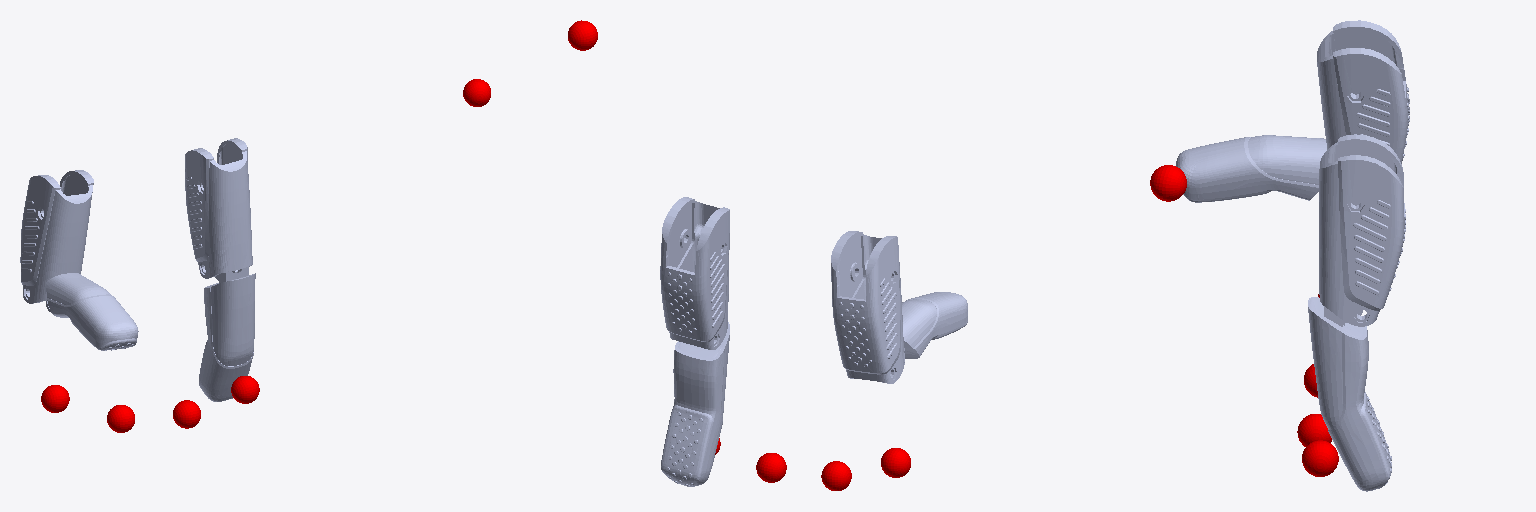
The robot description file, URDF, robot "urdf_left_12_20":
<?xml version='1.0' encoding='utf-8'?>
<robot name="urdf_left_12_20">
  
    <link name="wrist" />

    <joint name="L_hand_base_joint" type="fixed">
      <origin xyz="0 0 0" rpy="0 0 0" />
      <parent link="wrist" />
      <child link="base_link" />
    </joint>
  
  <link name="base_link">
    <inertial>
      <origin xyz="-5.81855257230368E-05 0.0036855956860619 -0.0826153899028331" rpy="0 0 0" />
      <mass value="0.260034351097693" />
      <inertia ixx="0.000223659755666589" ixy="-1.13436481934473E-06" ixz="5.34309354519849E-07" iyy="0.000266799681483547" iyz="1.40944118648867E-05" izz="0.000132857769181899" />
    </inertial>
    <visual>
      <origin xyz="0 0 0" rpy="0 0 0" />
      <geometry>
        <mesh filename="./meshes/left_base_link.STL" />
      </geometry>
      <material name="">
        <color rgba="0.792156862745098 0.819607843137255 0.933333333333333 1" />
      </material>
    </visual>
    <collision>
      <origin xyz="0 0 0" rpy="0 0 0" />
      <geometry>
        <mesh filename="./meshes/left_base_link.STL" />
      </geometry>
    </collision>
  </link>
  <link name="left_thumb_1">
    <inertial>
      <origin xyz="0.00178423404495211 -0.000649404577309123 -0.0031358931043441" rpy="0 0 0" />
      <mass value="0.00115518743162309" />
      <inertia ixx="5.98912200501135E-08" ixy="-8.04315731947437E-09" ixz="-3.29346919841095E-09" iyy="4.07201234589857E-08" iyz="1.19872544716431E-09" izz="6.18161684388651E-08" />
    </inertial>
    <visual>
      <origin xyz="0 0 0" rpy="0 0 0" />
      <geometry>
        <mesh filename="./meshes/left_thumb_1.STL" />
      </geometry>
      <material name="">
        <color rgba="0.792156862745098 0.819607843137255 0.933333333333333 1" />
      </material>
    </visual>
    <collision>
      <origin xyz="0 0 0" rpy="0 0 0" />
      <geometry>
        <mesh filename="./meshes/left_thumb_1.STL" />
      </geometry>
    </collision>
  </link>
  <joint name="left_thumb_1_joint" type="revolute">
    <origin xyz="0.0269 -0.02101 -0.07075" rpy="0 0 0" />
    <parent link="base_link" />
    <child link="left_thumb_1" />
    <axis xyz="0 0 -1" />
    <limit lower="0" upper="1.15" effort="10" velocity="1" />
  </joint>
  <link name="left_thumb_2">
    <inertial>
      <origin xyz="0.0141077165126408 0.013272947664556 0.00905027694248729" rpy="0 0 0" />
      <mass value="0.016" />
      <inertia ixx="1.06585698719649E-06" ixy="-7.62263321516971E-08" ixz="2.95033226564006E-11" iyy="1.06558155578278E-06" iyz="1.55271585897891E-11" izz="1.39709651951733E-06" />
    </inertial>
    <visual>
      <origin xyz="0 0 0" rpy="0 0 0" />
      <geometry>
        <mesh filename="./meshes/left_thumb_2.STL" />
      </geometry>
      <material name="">
        <color rgba="0.792156862745098 0.819607843137255 0.933333333333333 1" />
      </material>
    </visual>
    <collision>
      <origin xyz="0 0 0" rpy="0 0 0" />
      <geometry>
        <mesh filename="./meshes/left_thumb_2.STL" />
      </geometry>
    </collision>
  </link>
  <joint name="left_thumb_2_joint" type="revolute">
    <origin xyz="0.0063016 -0.011924 -0.00125" rpy="-1.5708 0 -0.34907" />
    <parent link="left_thumb_1" />
    <child link="left_thumb_2" />
    <axis xyz="0 0 1" />
    <limit lower="0" upper="0.55" effort="10" velocity="1" />
  </joint>
  <link name="left_thumb_3">
    <inertial>
      <origin xyz="0.0175210608796189 -0.000458783419545392 0.00589186777098984" rpy="0 0 0" />
      <mass value="0.012" />
      <inertia ixx="4.67948369620491E-07" ixy="-4.4974688607358E-08" ixz="1.01425359574474E-11" iyy="3.98794196148187E-07" iyz="2.07037920898898E-10" izz="4.24723917424999E-07" />
    </inertial>
    <visual>
      <origin xyz="0 0 0" rpy="0 0 0" />
      <geometry>
        <mesh filename="./meshes/left_thumb_3.STL" />
      </geometry>
      <material name="">
        <color rgba="0.792156862745098 0.819607843137255 0.933333333333333 1" />
      </material>
    </visual>
    <collision>
      <origin xyz="0 0 0" rpy="0 0 0" />
      <geometry>
        <mesh filename="./meshes/left_thumb_3.STL" />
      </geometry>
    </collision>
  </link>
  <joint name="left_thumb_3_joint" type="revolute">
    <origin xyz="0.026828 0.02583 0.00315" rpy="0 0 0" />
    <parent link="left_thumb_2" />
    <child link="left_thumb_3" />
    <axis xyz="0 0 1" />
    <limit lower="0" upper="3.14" effort="10" velocity="1" />
    <mimic joint="left_thumb_2_joint" multiplier="0.60" offset="0" />
  </joint>
  <link name="left_thumb_4">
    <inertial>
      <origin xyz="0.0159972574626049 0.0063105797700872 0.0073433144647696" rpy="0 0 0" />
      <mass value="0.01" />
      <inertia ixx="6.4362640059723E-07" ixy="-2.57376746969386E-07" ixz="-8.63129696542143E-10" iyy="7.63678708562786E-07" iyz="-7.21288836303217E-10" izz="9.2570163408105E-07" />
    </inertial>
    <visual>
      <origin xyz="0 0 0" rpy="0 0 0" />
      <geometry>
        <mesh filename="./meshes/left_thumb_4.STL" />
      </geometry>
      <material name="">
        <color rgba="0.792156862745098 0.819607843137255 0.933333333333333 1" />
      </material>
    </visual>
    <collision>
      <origin xyz="0 0 0" rpy="0 0 0" />
      <geometry>
        <mesh filename="./meshes/left_thumb_4.STL" />
      </geometry>
    </collision>
  </link>
  <joint name="left_thumb_4_joint" type="revolute">
    <origin xyz="0.027027 0.0069965 -0.00145" rpy="0 0 0" />
    <parent link="left_thumb_3" />
    <child link="left_thumb_4" />
    <axis xyz="0 0 1" />
    <limit lower="0" upper="3.14" effort="10" velocity="1" />
    <mimic joint="left_thumb_2_joint" multiplier="0.8" offset="0" />
  </joint>
  <link name="left_index_1">
    <inertial>
      <origin xyz="-0.00183599258071257 0.0123544163382434 -0.00665152565125451" rpy="0 0 0" />
      <mass value="0.0071995003148682" />
      <inertia ixx="1.28363093823079E-06" ixy="4.22091506924093E-08" ixz="-1.1741465013013E-12" iyy="5.79447850871435E-07" iyz="-8.63816965731366E-11" izz="1.32914845722975E-06" />
    </inertial>
    <visual>
      <origin xyz="0 0 0" rpy="0 0 0" />
      <geometry>
        <mesh filename="./meshes/left_index_1.STL" />
      </geometry>
      <material name="">
        <color rgba="0.792156862745098 0.819607843137255 0.933333333333333 1" />
      </material>
    </visual>
    <collision>
      <origin xyz="0 0 0" rpy="0 0 0" />
      <geometry>
        <mesh filename="./meshes/left_index_1.STL" />
      </geometry>
    </collision>
  </link>
  <joint name="left_index_1_joint" type="revolute">
    <origin xyz="0.025387 -0.00056467 -0.15686" rpy="-1.6057 0 1.5708" />
    <parent link="base_link" />
    <child link="left_index_1" />
    <axis xyz="0 0 1" />
    <limit lower="0" upper="1.6" effort="10" velocity="1" />
  </joint>
  <link name="left_index_2">
    <inertial>
      <origin xyz="0.000405420051948283 0.0257003783460073 -0.00610830787560272" rpy="0 0 0" />
      <mass value="0.00968688267109518" />
      <inertia ixx="2.25563043691857E-06" ixy="4.11282885240034E-07" ixz="3.87338024122588E-10" iyy="3.91279806505403E-07" iyz="-2.76559043550419E-09" izz="2.30247359295784E-06" />
    </inertial>
    <visual>
      <origin xyz="0 0 0" rpy="0 0 0" />
      <geometry>
        <mesh filename="./meshes/left_index_2.STL" />
      </geometry>
      <material name="">
        <color rgba="0.792156862745098 0.819607843137255 0.933333333333333 1" />
      </material>
    </visual>
    <collision>
      <origin xyz="0 0 0" rpy="0 0 0" />
      <geometry>
        <mesh filename="./meshes/left_index_2.STL" />
      </geometry>
    </collision>
  </link>
  <joint name="left_index_2_joint" type="revolute">
    <origin xyz="-0.0016312 0.032734 -0.00055" rpy="0 0 0" />
    <parent link="left_index_1" />
    <child link="left_index_2" />
    <axis xyz="0 0 1" />
    <limit lower="0" upper="3.14" effort="10" velocity="1.1" />
    <mimic joint="left_index_1_joint" multiplier="1.05" offset="0" />
  </joint>
  <link name="left_middle_1">
    <inertial>
      <origin xyz="-0.00229271394242232 0.0122778605414752 -0.00665151068667683" rpy="0 0 0" />
      <mass value="0.00719950322487974" />
      <inertia ixx="1.27951858905779E-06" ixy="6.81813021711596E-08" ixz="1.58551121583499E-12" iyy="5.83543537428452E-07" iyz="-8.56179612608701E-11" izz="1.32913234511164E-06" />
    </inertial>
    <visual>
      <origin xyz="0 0 0" rpy="0 0 0" />
      <geometry>
        <mesh filename="./meshes/left_middle_1.STL" />
      </geometry>
      <material name="">
        <color rgba="0.792156862745098 0.819607843137255 0.933333333333333 1" />
      </material>
    </visual>
    <collision>
      <origin xyz="0 0 0" rpy="0 0 0" />
      <geometry>
        <mesh filename="./meshes/left_middle_1.STL" />
      </geometry>
    </collision>
  </link>
  <joint name="left_middle_1_joint" type="revolute">
    <origin xyz="0.0037996 -0.00056467 -0.157" rpy="-1.5708 0 1.5708" />
    <parent link="base_link" />
    <child link="left_middle_1" />
    <axis xyz="0 0 1" />
    <limit lower="0" upper="1.6" effort="10" velocity="1" />
  </joint>
  <link name="left_middle_2">
    <inertial>
      <origin xyz="7.51983994427274E-05 0.027448753770842 -0.00610022997575017" rpy="0 0 0" />
      <mass value="0.0104611931926301" />
      <inertia ixx="2.75831931773332E-06" ixy="4.66412841401028E-07" ixz="7.35766561775226E-12" iyy="4.22466538741155E-07" iyz="-1.79608426686769E-11" izz="2.80722617348706E-06" />
    </inertial>
    <visual>
      <origin xyz="0 0 0" rpy="0 0 0" />
      <geometry>
        <mesh filename="./meshes/left_middle_2.STL" />
      </geometry>
      <material name="">
        <color rgba="0.792156862745098 0.819607843137255 0.933333333333333 1" />
      </material>
    </visual>
    <collision>
      <origin xyz="0 0 0" rpy="0 0 0" />
      <geometry>
        <mesh filename="./meshes/left_middle_2.STL" />
      </geometry>
    </collision>
  </link>
  <joint name="left_middle_2_joint" type="revolute">
    <origin xyz="-0.0028436 0.032651 -0.00055" rpy="0 0 0" />
    <parent link="left_middle_1" />
    <child link="left_middle_2" />
    <axis xyz="0 0 1" />
    <limit lower="0" upper="3.14" effort="10" velocity="1.1" />
    <mimic joint="left_middle_1_joint" multiplier="1.05" offset="0" />
  </joint>
  <link name="left_ring_1">
    <inertial>
      <origin xyz="-0.00240530428455066 0.0122563079467745 -0.00665150968297497" rpy="0 0 0" />
      <mass value="0.00719949770218712" />
      <inertia ixx="1.27820682409824E-06" ixy="7.45572429780093E-08" ixz="2.25718181808859E-12" iyy="5.84853511073517E-07" iyz="-8.56222330411309E-11" izz="1.32913088941838E-06" />
    </inertial>
    <visual>
      <origin xyz="0 0 0" rpy="0 0 0" />
      <geometry>
        <mesh filename="./meshes/left_ring_1.STL" />
      </geometry>
      <material name="">
        <color rgba="0.792156862745098 0.819607843137255 0.933333333333333 1" />
      </material>
    </visual>
    <collision>
      <origin xyz="0 0 0" rpy="0 0 0" />
      <geometry>
        <mesh filename="./meshes/left_ring_1.STL" />
      </geometry>
    </collision>
  </link>
  <joint name="left_ring_1_joint" type="revolute">
    <origin xyz="-0.017813 -0.00056467 -0.15614" rpy="-1.5184 0 1.5708" />
    <parent link="base_link" />
    <child link="left_ring_1" />
    <axis xyz="0 0 1" />
    <limit lower="0" upper="1.6" effort="10" velocity="1" />
  </joint>
  <link name="left_ring_2">
    <inertial>
      <origin xyz="0.000667145407605998 0.0256949163202511 -0.00610829894053159" rpy="0 0 0" />
      <mass value="0.00968685177133057" />
      <inertia ixx="2.26381138740299E-06" ixy="3.92210300202205E-07" ixz="3.58404653503583E-10" iyy="3.83095000534084E-07" iyz="-2.77027363965469E-09" izz="2.30247104599333E-06" />
    </inertial>
    <visual>
      <origin xyz="0 0 0" rpy="0 0 0" />
      <geometry>
        <mesh filename="./meshes/left_ring_2.STL" />
      </geometry>
      <material name="">
        <color rgba="0.792156862745098 0.819607843137255 0.933333333333333 1" />
      </material>
    </visual>
    <collision>
      <origin xyz="0 0 0" rpy="0 0 0" />
      <geometry>
        <mesh filename="./meshes/left_ring_2.STL" />
      </geometry>
    </collision>
  </link>
  <joint name="left_ring_2_joint" type="revolute">
    <origin xyz="-0.0031431 0.032624 -0.00055" rpy="0 0 0" />
    <parent link="left_ring_1" />
    <child link="left_ring_2" />
    <axis xyz="0 0 1" />
    <limit lower="0" upper="3.14" effort="10" velocity="1.1" />
    <mimic joint="left_ring_1_joint" multiplier="1.05" offset="0" />
  </joint>
  <link name="left_little_1">
    <inertial>
      <origin xyz="-0.00316889023513399 0.0120814769898197 -0.00665148964848" rpy="0 0 0" />
      <mass value="0.0071994553320001" />
      <inertia ixx="1.26614239360362E-06" ixy="1.17349328114653E-07" ixz="6.69925886240907E-12" iyy="5.96905140854994E-07" iyz="-8.54914063893311E-11" izz="1.32912203576944E-06" />
    </inertial>
    <visual>
      <origin xyz="0 0 0" rpy="0 0 0" />
      <geometry>
        <mesh filename="./meshes/left_little_1.STL" />
      </geometry>
      <material name="">
        <color rgba="0.792156862745098 0.819607843137255 0.933333333333333 1" />
      </material>
    </visual>
    <collision>
      <origin xyz="0 0 0" rpy="0 0 0" />
      <geometry>
        <mesh filename="./meshes/left_little_1.STL" />
      </geometry>
    </collision>
  </link>
  <joint name="left_little_1_joint" type="revolute">
    <origin xyz="-0.039144 -0.00056467 -0.15226" rpy="-1.4661 0 1.5708" />
    <parent link="base_link" />
    <child link="left_little_1" />
    <axis xyz="0 0 1" />
    <limit lower="0" upper="1.6" effort="10" velocity="1" />
  </joint>
  <link name="left_little_2">
    <inertial>
      <origin xyz="0.00469503836926433 0.020441957551037 -0.0061004930536056" rpy="0 0 0" />
      <mass value="0.00759267726265222" />
      <inertia ixx="1.27661762368947E-06" ixy="7.27034842413144E-08" ixz="1.62724400979504E-12" iyy="2.31536498425727E-07" iyz="-9.71604458446237E-12" izz="1.23907231734916E-06" />
    </inertial>
    <visual>
      <origin xyz="0 0 0" rpy="0 0 0" />
      <geometry>
        <mesh filename="./meshes/left_little_2.STL" />
      </geometry>
      <material name="">
        <color rgba="0.792156862745098 0.819607843137255 0.933333333333333 1" />
      </material>
    </visual>
    <collision>
      <origin xyz="0 0 0" rpy="0 0 0" />
      <geometry>
        <mesh filename="./meshes/left_little_2.STL" />
      </geometry>
    </collision>
  </link>
  <joint name="left_little_2_joint" type="revolute">
    <origin xyz="-0.005182 0.032363 -0.00055" rpy="0 0 0" />
    <parent link="left_little_1" />
    <child link="left_little_2" />
    <axis xyz="0 0 1" />
    <limit lower="0" upper="3.14" effort="10" velocity="1.2" />
    <mimic joint="left_little_1_joint" multiplier="1.18" offset="0" />
  </joint>
  <!-- Fingertip dummy links -->
  <link name="left_thumb_tip"><inertial><origin rpy="0 0 0" xyz="0 0 0"/><mass value="0.001"/><inertia ixx="1e-9" ixy="0" ixz="0" iyy="1e-9" iyz="0" izz="1e-9"/></inertial><visual><geometry><sphere radius="0.005"/></geometry><material name="tip"><color rgba="1 0 0 1"/></material></visual></link>
  <joint name="left_thumb_tip_joint" type="fixed"><origin rpy="0 0 0" xyz="0.0208 0.0145 0.006"/><parent link="left_thumb_4"/><child link="left_thumb_tip"/></joint>
  <link name="left_index_tip"><inertial><origin rpy="0 0 0" xyz="0 0 0"/><mass value="0.001"/><inertia ixx="1e-9" ixy="0" ixz="0" iyy="1e-9" iyz="0" izz="1e-9"/></inertial><visual><geometry><sphere radius="0.005"/></geometry><material name="tip"><color rgba="1 0 0 1"/></material></visual></link>
  <joint name="left_index_tip_joint" type="fixed"><origin rpy="0 0 0" xyz="-0.008 0.045 -0.00722"/><parent link="left_index_2"/><child link="left_index_tip"/></joint>
  <link name="left_middle_tip"><inertial><origin rpy="0 0 0" xyz="0 0 0"/><mass value="0.001"/><inertia ixx="1e-9" ixy="0" ixz="0" iyy="1e-9" iyz="0" izz="1e-9"/></inertial><visual><geometry><sphere radius="0.005"/></geometry><material name="tip"><color rgba="1 0 0 1"/></material></visual></link>
  <joint name="left_middle_tip_joint" type="fixed"><origin rpy="0 0 0" xyz="-0.008 0.048 -0.00719"/><parent link="left_middle_2"/><child link="left_middle_tip"/></joint>
  <link name="left_ring_tip"><inertial><origin rpy="0 0 0" xyz="0 0 0"/><mass value="0.001"/><inertia ixx="1e-9" ixy="0" ixz="0" iyy="1e-9" iyz="0" izz="1e-9"/></inertial><visual><geometry><sphere radius="0.005"/></geometry><material name="tip"><color rgba="1 0 0 1"/></material></visual></link>
  <joint name="left_ring_tip_joint" type="fixed"><origin rpy="0 0 0" xyz="-0.006 0.045 -0.00722"/><parent link="left_ring_2"/><child link="left_ring_tip"/></joint>
  <link name="left_little_tip"><inertial><origin rpy="0 0 0" xyz="0 0 0"/><mass value="0.001"/><inertia ixx="1e-9" ixy="0" ixz="0" iyy="1e-9" iyz="0" izz="1e-9"/></inertial><visual><geometry><sphere radius="0.005"/></geometry><material name="tip"><color rgba="1 0 0 1"/></material></visual></link>
  <joint name="left_little_tip_joint" type="fixed"><origin rpy="0 0 0" xyz="-0.0004 0.037 -0.00719"/><parent link="left_little_2"/><child link="left_little_tip"/></joint>
</robot>

--- Render facts (derived) ---
Views: 3 orthographic renders of the robot side by side, from view 1: azimuth 30°, elevation 25°; view 2: azimuth 150°, elevation 25°; view 3: azimuth 270°, elevation 25°.
Robot: urdf_left_12_20 — 19 links, 18 joints (12 revolute, 6 fixed); root link wrist; default pose: every joint at zero.
Links seen in each view (by area): view 1: left_index_1, left_little_1, left_index_2, left_little_2, left_middle_tip, left_index_tip, left_little_tip, left_ring_tip, left_thumb_tip; view 2: left_little_1, left_index_1, left_index_2, left_little_2, left_middle_tip, left_little_tip, left_ring_tip, left_thumb_tip; view 3: left_index_1, left_little_1, left_index_2, left_little_2, left_thumb_tip, left_index_tip, left_middle_tip.
Boxes of the visible links, <box> form: left_index_1: <box>185,138,252,278</box>; left_little_1: <box>20,170,93,303</box>; left_index_2: <box>199,267,255,401</box>; left_little_2: <box>46,273,138,350</box>; left_middle_tip: <box>173,400,200,428</box>; left_index_tip: <box>231,376,259,403</box>; left_little_tip: <box>41,385,69,412</box>; left_ring_tip: <box>107,405,134,432</box>; left_thumb_tip: <box>463,79,490,106</box>; left_little_1: <box>831,231,904,383</box>; left_index_1: <box>660,197,729,349</box>; left_index_2: <box>661,322,729,486</box>; left_little_2: <box>902,292,967,364</box>; left_middle_tip: <box>756,453,786,482</box>; left_little_tip: <box>881,448,910,477</box>; left_ring_tip: <box>821,461,851,490</box>; left_thumb_tip: <box>568,20,597,50</box>; left_index_1: <box>1319,134,1405,326</box>; left_little_1: <box>1317,20,1409,163</box>; left_index_2: <box>1308,297,1391,491</box>; left_little_2: <box>1176,135,1326,202</box>; left_thumb_tip: <box>1150,165,1186,201</box>; left_index_tip: <box>1302,440,1338,476</box>; left_middle_tip: <box>1297,414,1331,446</box>.
Bounding box of the posed robot: 0.1553 × 0.0702 × 0.1286 m (x, y, z).
Meshes: 13 distinct files referenced, 4 mesh visuals loaded (4 binary STL); not drawn: 9 (reference not matched to a file when rendering).
